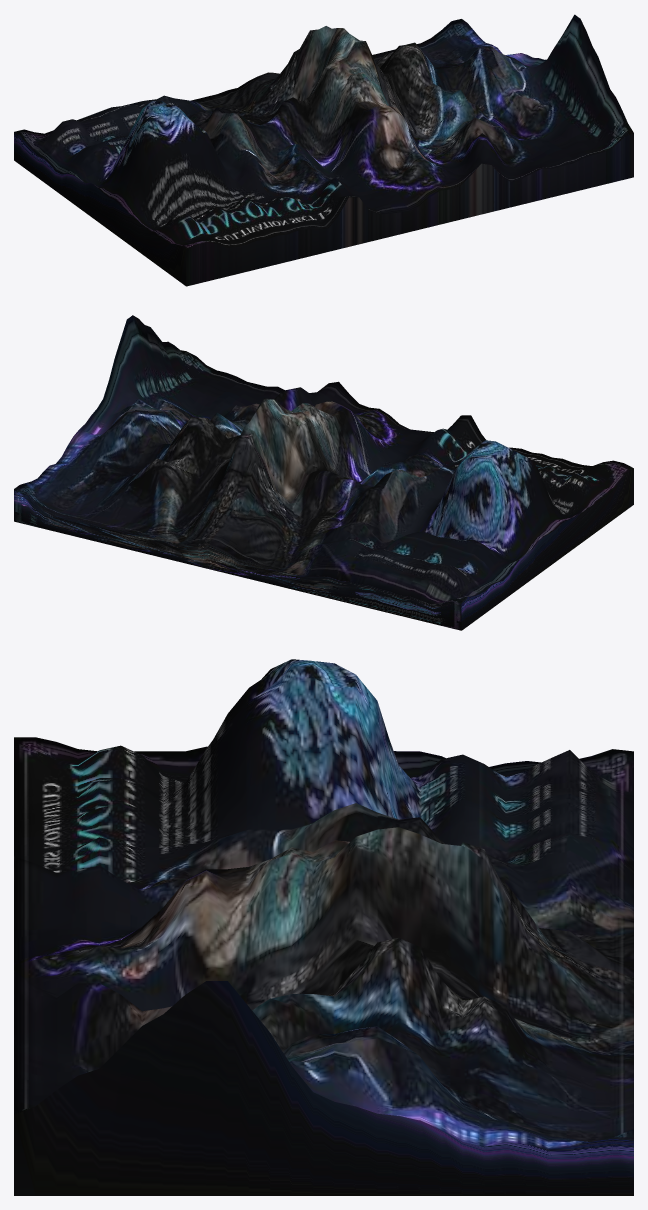
Rendered from SECT_12_Dragon_Sect.glb.
3 views of the same model, one above another, from view 1: azimuth 30°, elevation 25°; view 2: azimuth 150°, elevation 25°; view 3: azimuth 270°, elevation 25° (orthographic). The views are drawn at different scales.
Parts seen in each view (by area): view 1: SECT_12_Dragon_Sect; view 2: SECT_12_Dragon_Sect; view 3: SECT_12_Dragon_Sect.
Part boxes in pixels (left/top/right/bottom): SECT_12_Dragon_Sect: left=14, top=14, right=633, bottom=286; SECT_12_Dragon_Sect: left=14, top=315, right=633, bottom=630; SECT_12_Dragon_Sect: left=14, top=659, right=633, bottom=1195.
Size of the model in its own units: 2 by 0.51 by 1.33.
Materials: 1 (1 with a texture image).
